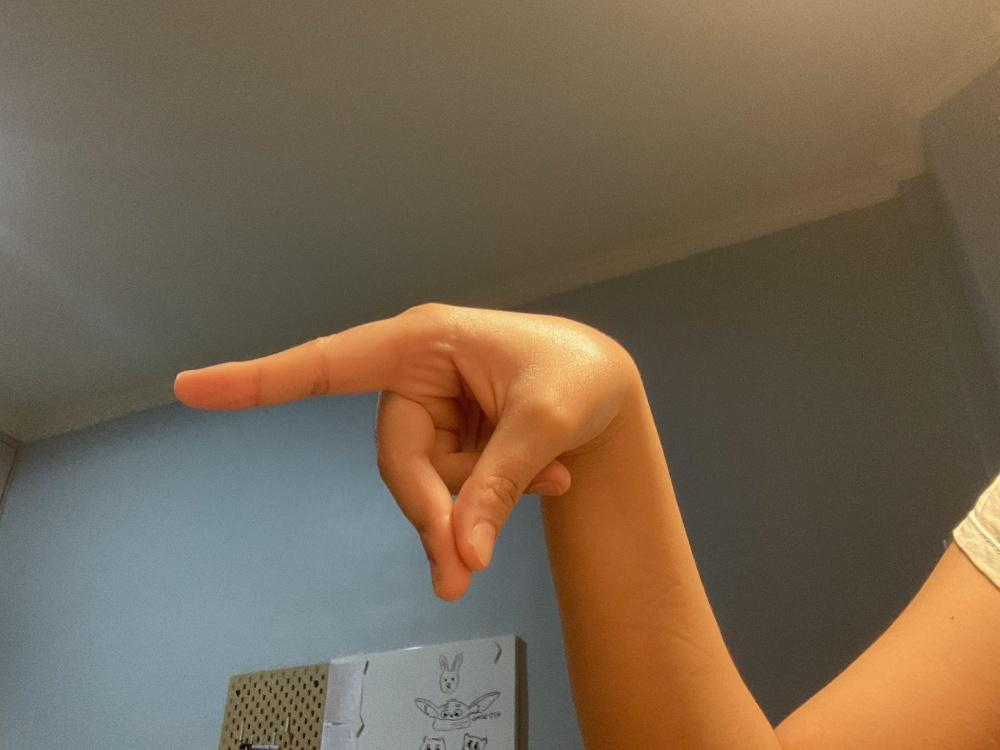p: (173, 300, 623, 600)
